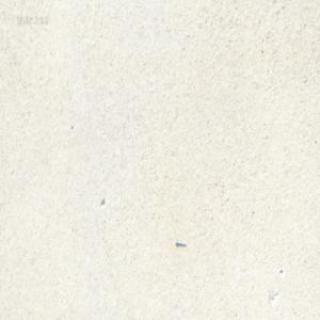Nailtrack_idkeyframe: (174, 239, 186, 247)
